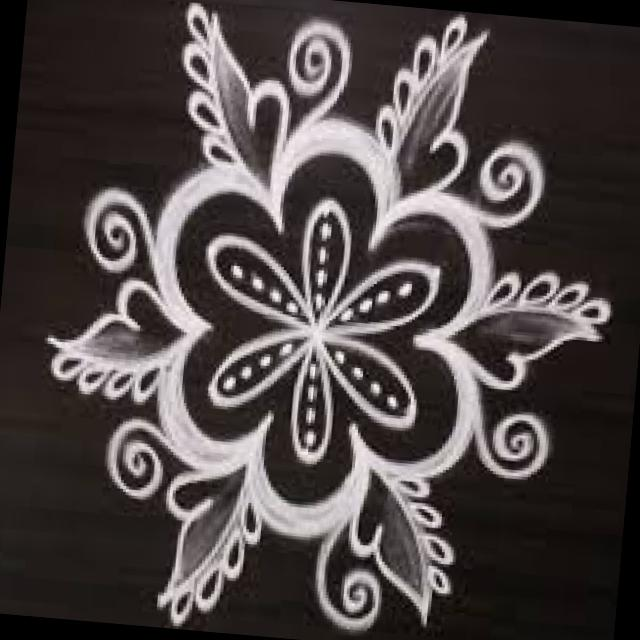rangoli: (37, 2, 640, 640)
